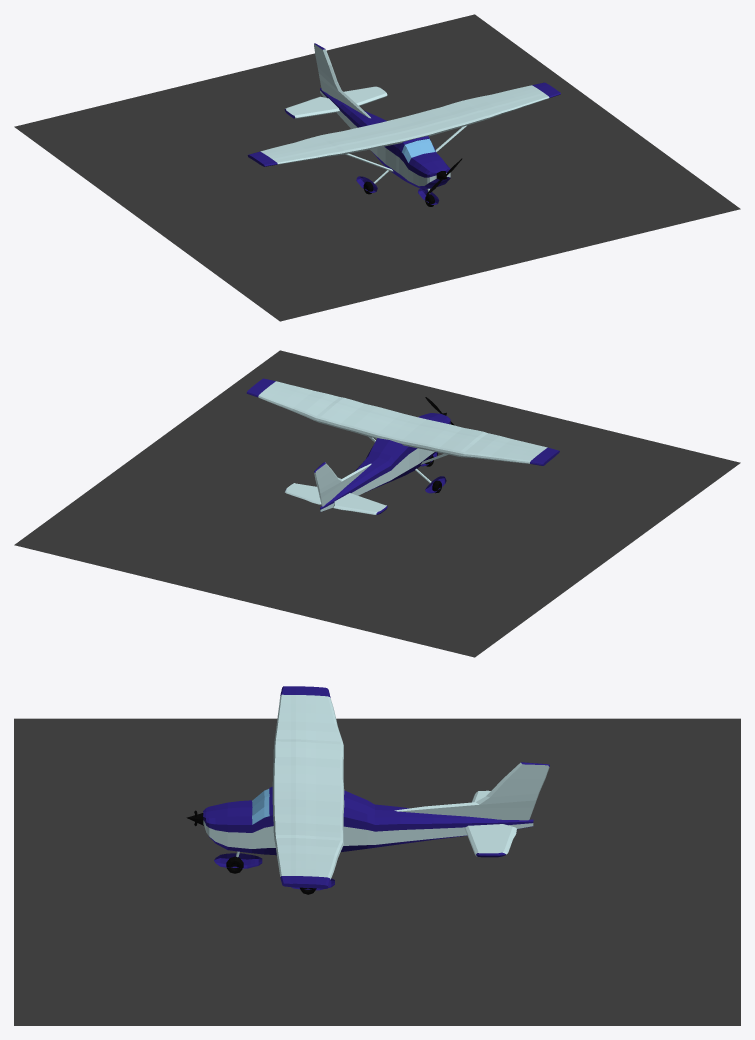
3 renders of one model, top to bottom at view 1: azimuth 30°, elevation 25°; view 2: azimuth 150°, elevation 25°; view 3: azimuth 270°, elevation 25°, orthographic. The views are drawn at different scales.
Parts seen in each view (by area): view 1: Plane, Cube; view 2: Plane, Cube; view 3: Plane, Cube.
Part boxes in pixels (x1,y1,x2,y2): Plane: (14,14,740,321); Cube: (247,43,560,206); Plane: (14,350,740,657); Cube: (246,378,559,514); Plane: (14,718,740,1025); Cube: (186,686,549,894).
Size of the model in its own units: 9.43 by 1.58 by 9.43.
